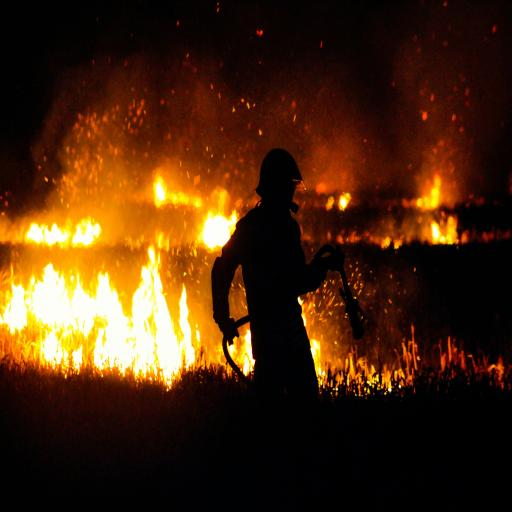wildfire: (5, 11, 512, 457)
